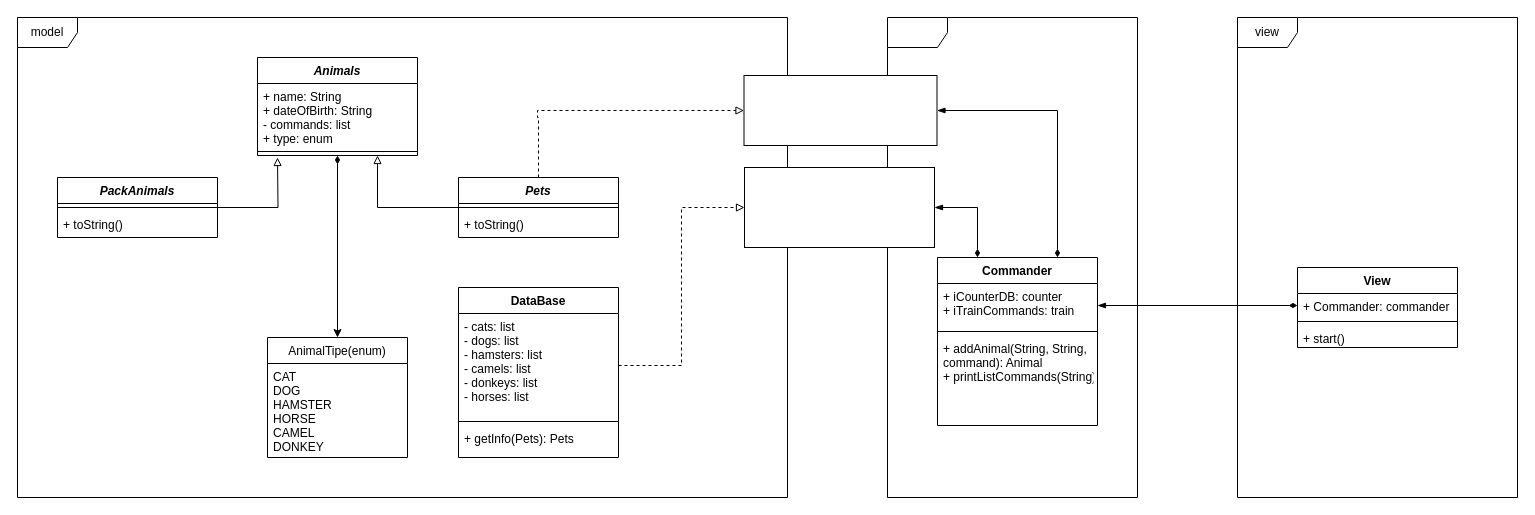
Some shapes in this 1535 by 515 pixel diagram are drawn without their labels. The centre of each missing label's shape, as x and y in pixels:
<<Interface>> iCounterDB + addPetsInDB(Pets) + getPets(Pets): point (839, 207)
<<Interface>> iTrainCommands + trainPets(String): point (840, 110)
controller: point (1012, 257)
